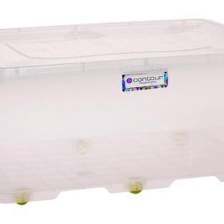plastic_box: (0, 11, 224, 210)
